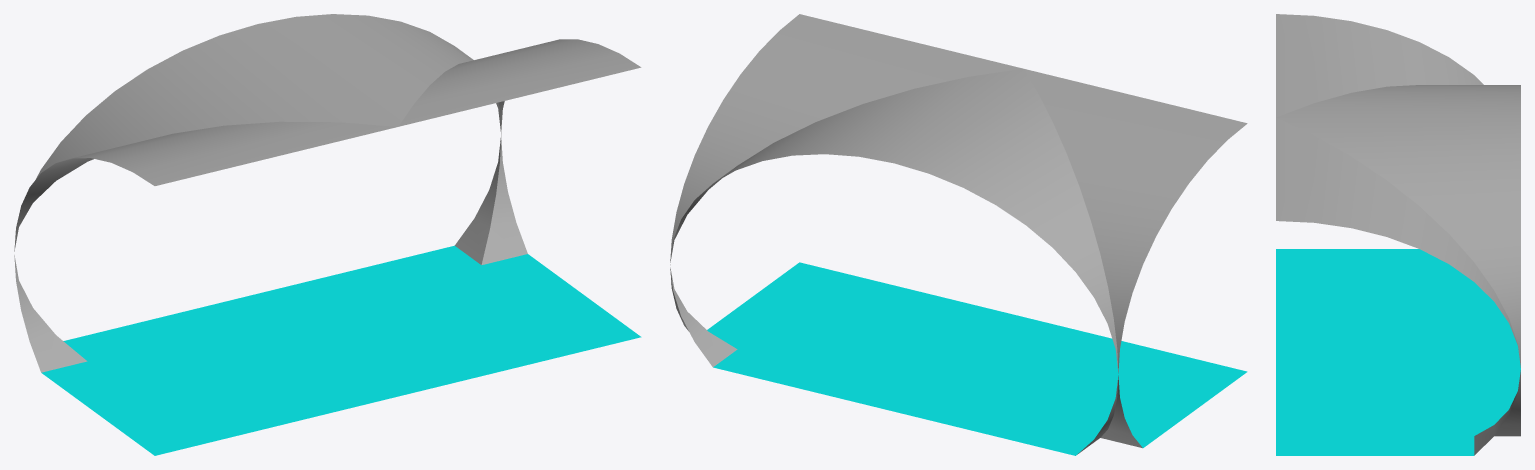
File: sm_tunnel_junction.fbx
3 views of the same model, side by side, from view 1: azimuth 30°, elevation 25°; view 2: azimuth 150°, elevation 25°; view 3: azimuth 270°, elevation 25° (orthographic). The views are drawn at different scales.
Parts seen in each view (by area): view 1: sm_tunnel_junction; view 2: sm_tunnel_junction; view 3: sm_tunnel_junction.
Boxes of the visible parts, x1=… form: sm_tunnel_junction: x1=14, y1=14, x2=641, y2=455; sm_tunnel_junction: x1=670, y1=14, x2=1247, y2=455; sm_tunnel_junction: x1=1276, y1=14, x2=1520, y2=455.
Bounding box in the file's own units: 24 × 12.7 × 12.
